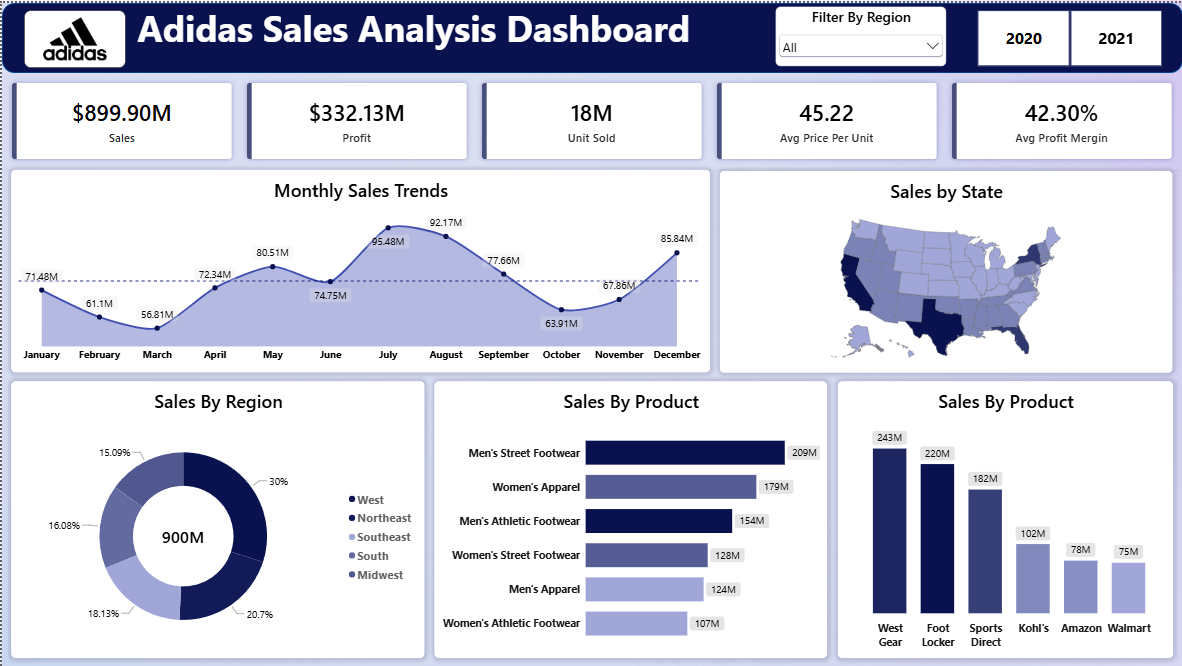

This screenshot's page, from the dashboard's own definition file:
{"tool":"powerbi","page":{"name":"Page 1","canvas":[1920,1080],"ordinal":0},"visuals":[{"type":"cardVisual","fields":{"Data":["KPI.Total Sales","KPI.Profit","KPI.Unit Sold","KPI.Avg Price Per Unit","KPI.Avg Profit Mergin"]},"box":[0,114,1920,156],"z":0},{"type":"areaChart","title":"Monthly Sales Trends ","fields":{"Category":["Data Sales Adidas.Invoice Date.Variation.Date Hierarchy.Month"],"Y":["KPI.Sales"]},"box":[14.1,270.4,1138,332],"z":1000},{"type":"shapeMap","title":"Sales by State","fields":{"Category":["Data Sales Adidas.State"],"Value":["KPI.Sales"]},"box":[1166,271.4,738,330],"z":2000},{"type":"donutChart","title":"Sales By Region ","fields":{"Category":["Data Sales Adidas.Region"],"Y":["KPI.Sales"]},"box":[14.1,614.3,674.3,451.9],"z":3000},{"type":"barChart","title":"Sales By Product","fields":{"Category":["Data Sales Adidas.Product"],"Y":["KPI.Sales"]},"box":[702.6,614.3,640.8,451.9],"z":4000},{"type":"columnChart","title":"Sales By Product","fields":{"Category":["Data Sales Adidas.Retailer"],"Y":["KPI.Sales"]},"box":[1357.5,614.3,547.2,451.9],"z":5000},{"type":"shape","box":[0,0,1920,114],"z":6000},{"type":"image","box":[35,11.7,165,93.3],"z":7000},{"type":"textbox","box":[220,0,1010,112],"z":8000},{"type":"slicer","title":"Filter By Region ","fields":{"Values":["Data Sales Adidas.Region"]},"box":[1258.6,5.3,277.1,97.1],"z":9000},{"type":"slicer","title":"Filter By Year","fields":{"Values":["Data Sales Adidas.Invoice Date.Variation.Date Hierarchy.Year"]},"box":[1567.5,12.4,337.2,90],"z":10000}]}

Visuals, with their boxes in screenshot pixels (x1, y1, x2, y2), scaled from the page's 1920x1080 canvas onto the 1182x666 screenshot:
cardVisual - KPI.Total Sales x KPI.Profit: BBox(0, 70, 1181, 166)
"Monthly Sales Trends " areaChart: BBox(9, 167, 709, 371)
"Sales by State" shapeMap: BBox(718, 167, 1172, 371)
"Sales By Region " donutChart: BBox(9, 379, 424, 657)
"Sales By Product" barChart: BBox(433, 379, 827, 657)
"Sales By Product" columnChart: BBox(836, 379, 1173, 657)
shape: BBox(0, 0, 1181, 70)
image: BBox(22, 7, 123, 65)
textbox: BBox(135, 0, 757, 69)
"Filter By Region " slicer: BBox(775, 3, 945, 63)
"Filter By Year" slicer: BBox(965, 8, 1173, 63)
